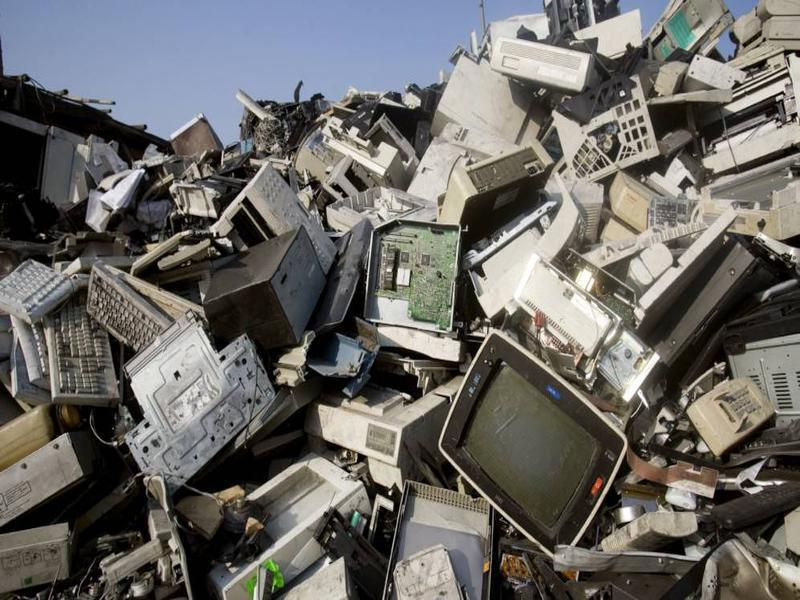circuit_board: (374, 223, 457, 334)
keyboard: (43, 305, 127, 410), (85, 259, 177, 351), (1, 252, 80, 328)
tv_pc: (446, 328, 629, 555)
